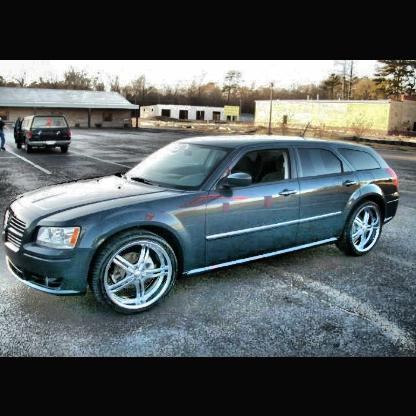Dodge Magnum Wagon 2008: (5, 137, 400, 312)
